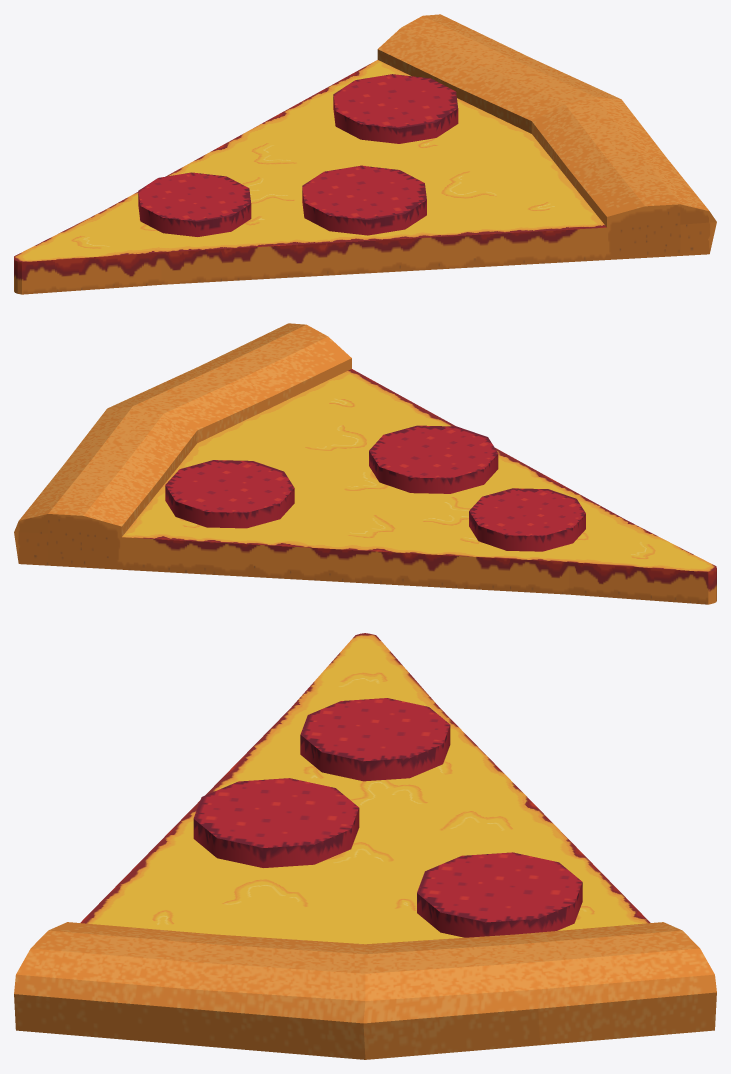
Rendered from Pizza_Peperoni.fbx.
The picture shows the model from 3 angles, top to bottom: view 1: azimuth 30°, elevation 25°; view 2: azimuth 150°, elevation 25°; view 3: azimuth 270°, elevation 25°; orthographic projection. The views are drawn at different scales.
Visible parts, largest first — view 1: Pice_4, Pice_3, Pice_2, Pice_1, Peperoni_3, Peperoni_2, Peperoni_1; view 2: Pice_4, Pice_3, Pice_2, Pice_1, Peperoni_3, Peperoni_2, Peperoni_1; view 3: Pice_4, Pice_3, Peperoni_2, Peperoni_3, Peperoni_1, Pice_2, Pice_1.
Part boxes in pixels (x1,y1,x2,y2): Pice_4: [287, 14, 716, 268]; Pice_3: [195, 110, 458, 276]; Pice_2: [104, 160, 309, 284]; Pice_1: [14, 210, 161, 294]; Peperoni_3: [333, 74, 458, 143]; Peperoni_2: [302, 165, 426, 235]; Peperoni_1: [138, 172, 251, 236]; Pice_4: [14, 323, 442, 577]; Pice_3: [271, 419, 534, 586]; Pice_2: [420, 469, 625, 594]; Pice_1: [569, 520, 716, 604]; Peperoni_3: [165, 460, 294, 528]; Peperoni_2: [369, 425, 498, 493]; Peperoni_1: [469, 488, 585, 551]; Pice_4: [14, 860, 716, 1059]; Pice_3: [142, 784, 588, 878]; Peperoni_2: [193, 778, 359, 867]; Peperoni_3: [417, 852, 582, 937]; Peperoni_1: [300, 698, 450, 781]; Pice_2: [216, 708, 513, 796]; Pice_1: [291, 633, 439, 711].
Size of the model in its own units: 18.14 by 1.52 by 13.85.
